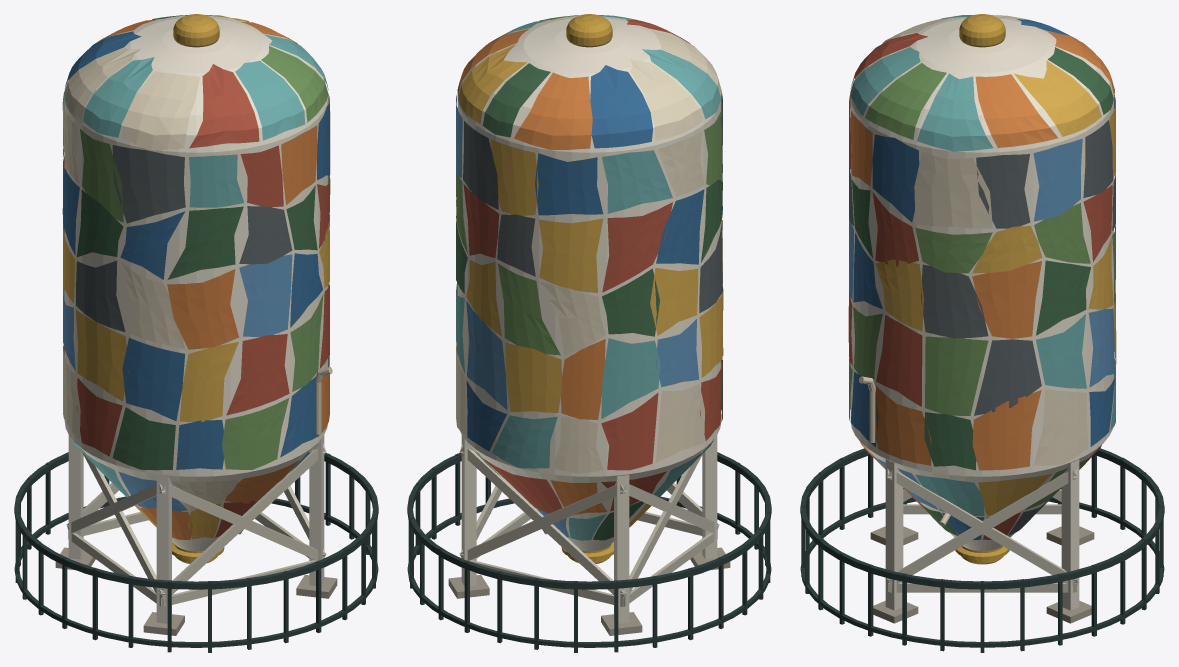
The model's file is brewery_tank.glb.
3 renders of one model, left to right at view 1: azimuth 30°, elevation 25°; view 2: azimuth 150°, elevation 25°; view 3: azimuth 270°, elevation 25°, orthographic.
Visible parts, largest first — view 1: BreweryTank; view 2: BreweryTank; view 3: BreweryTank.
Part boxes in pixels (<box>): BreweryTank: <box>14,14,378,652</box>; BreweryTank: <box>407,14,771,652</box>; BreweryTank: <box>800,14,1164,652</box>.
Bounding box in the file's own units: 4.97 × 8.4 × 4.97.
